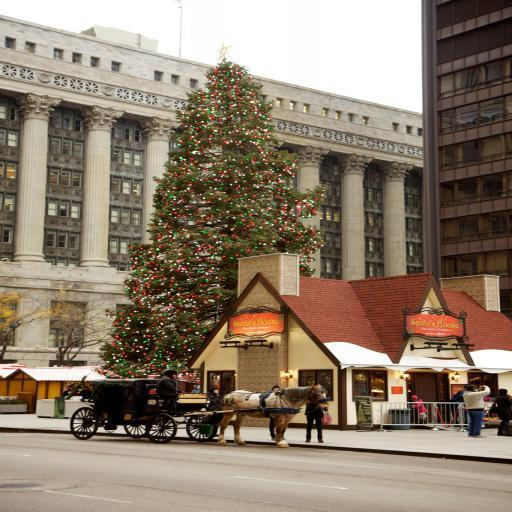horse: (216, 384, 330, 450)
